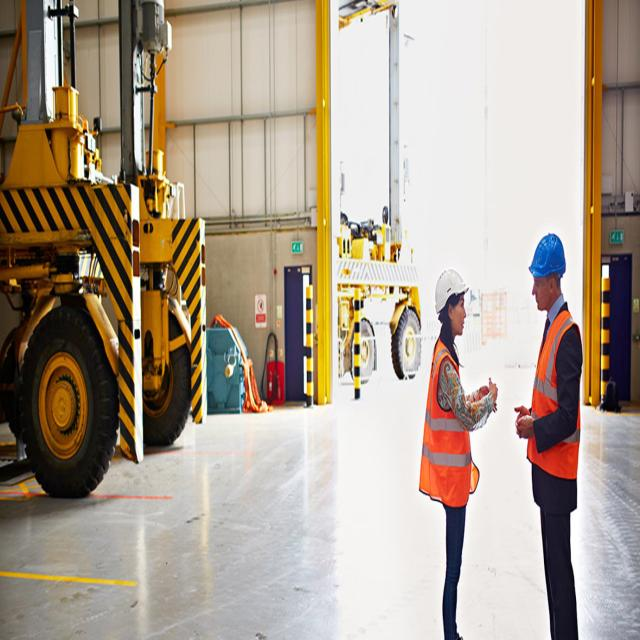helmet: (521, 222, 571, 282), (423, 253, 472, 309)
no-goggles: (524, 274, 553, 296), (450, 292, 473, 317)
vest: (517, 311, 587, 468), (421, 328, 483, 503)
